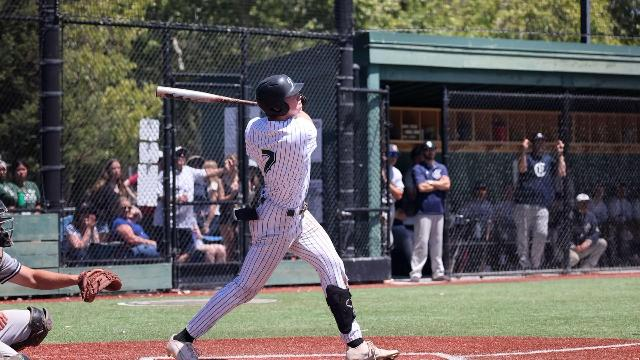bat: (156, 86, 260, 106)
